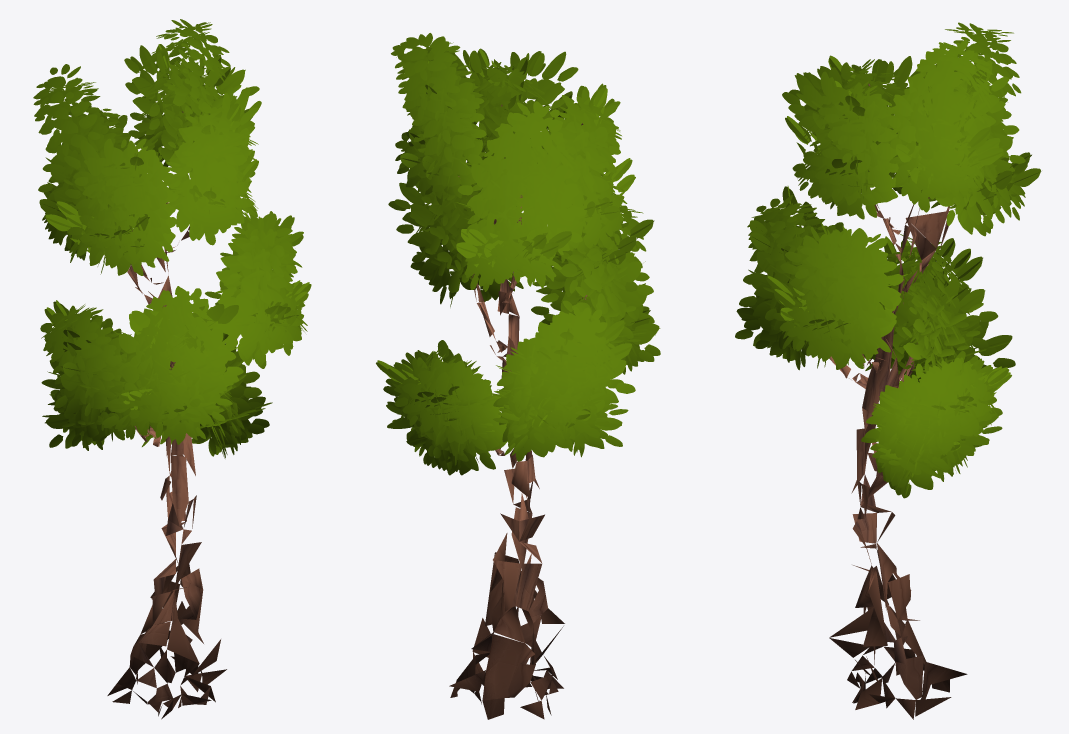
The model's file is tree_3.gltf.
3 views of the same model, side by side, from view 1: azimuth 30°, elevation 25°; view 2: azimuth 150°, elevation 25°; view 3: azimuth 270°, elevation 25° (orthographic). The views are drawn at different scales.
Parts seen in each view (by area): view 1: CommonTree_3; view 2: CommonTree_3; view 3: CommonTree_3.
Part boxes in pixels (bbox=[...]): CommonTree_3: bbox=[33, 19, 311, 719]; CommonTree_3: bbox=[376, 33, 660, 719]; CommonTree_3: bbox=[735, 22, 1041, 719].
Size of the model in its own units: 4.03 by 9.16 by 4.1.
2 materials, 2 textured.
